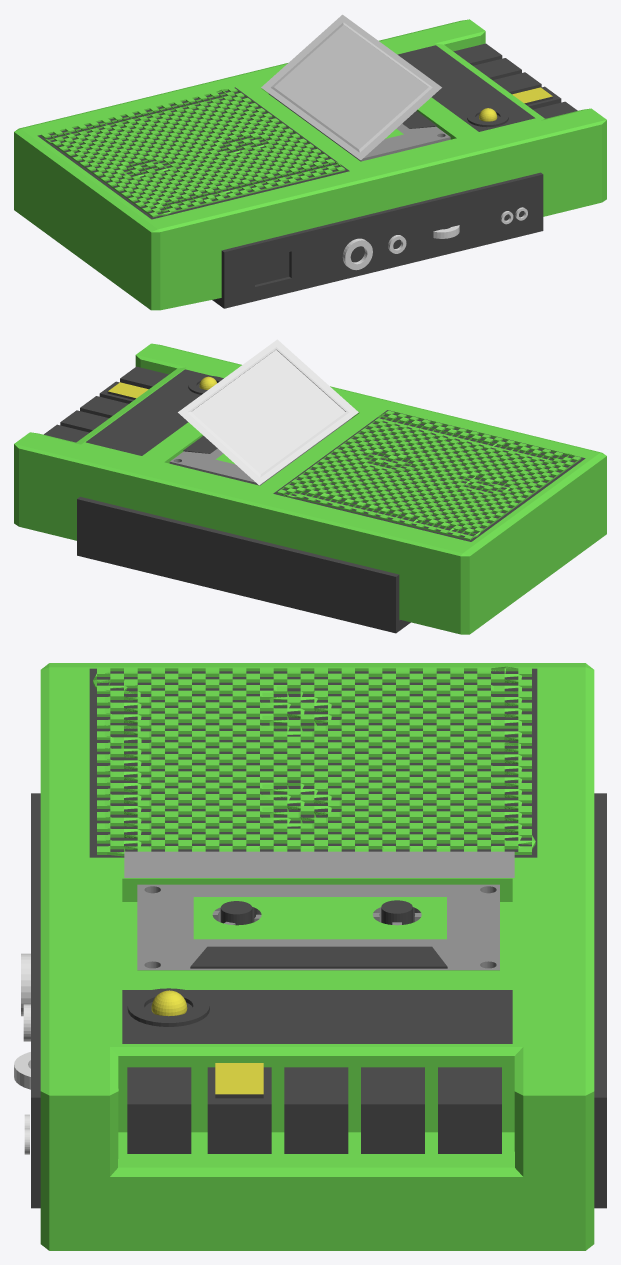
The model's file is cassetteplayer1.fbx.
3 views of the same model, one above another, from view 1: azimuth 30°, elevation 25°; view 2: azimuth 150°, elevation 25°; view 3: azimuth 270°, elevation 25° (orthographic). The views are drawn at different scales.
Parts seen in each view (by area): view 1: Base, Plane.003, Cube.001, Plane.001, Plane.002, Plane, Cube.002, Plane.005, Circle.004, Circle.006, Cube; view 2: Base, Plane.003, Cube.001, Plane.001, Plane.002, Plane, Cube.002, Plane.005, Cube; view 3: Base, Plane.003, Plane.005, Plane.002, Cube.002, Plane, Plane.001, Cube.001, Cube, Circle.006.
Boxes of the visible parts, left/top/right/bottom form: Base: left=14, top=19, right=606, bottom=310; Plane.003: left=41, top=87, right=345, bottom=217; Cube.001: left=212, top=172, right=543, bottom=308; Plane.001: left=261, top=14, right=441, bottom=160; Plane.002: left=37, top=87, right=349, bottom=219; Plane: left=397, top=45, right=535, bottom=131; Cube.002: left=453, top=43, right=561, bottom=109; Plane.005: left=268, top=93, right=450, bottom=161; Circle.004: left=342, top=238, right=372, bottom=270; Circle.006: left=467, top=107, right=508, bottom=127; Cube: left=533, top=101, right=577, bottom=118; Base: left=14, top=343, right=606, bottom=634; Plane.003: left=277, top=410, right=581, bottom=540; Cube.001: left=77, top=496, right=410, bottom=633; Plane.001: left=178, top=339, right=358, bottom=485; Plane.002: left=273, top=410, right=585, bottom=541; Plane: left=86, top=369, right=217, bottom=455; Cube.002: left=44, top=381, right=148, bottom=442; Plane.005: left=169, top=418, right=351, bottom=485; Cube: left=120, top=366, right=168, bottom=389; Base: left=40, top=663, right=594, bottom=1250; Plane.003: left=93, top=666, right=535, bottom=856; Plane.005: left=137, top=884, right=499, bottom=970; Plane.002: left=89, top=668, right=537, bottom=857; Cube.002: left=207, top=1063, right=501, bottom=1153; Plane: left=122, top=990, right=512, bottom=1043; Plane.001: left=124, top=851, right=514, bottom=877; Cube.001: left=31, top=793, right=606, bottom=1208; Cube: left=127, top=1067, right=191, bottom=1153; Circle.006: left=127, top=988, right=209, bottom=1026.
Size of the model in its own units: 578 by 175 by 333.
